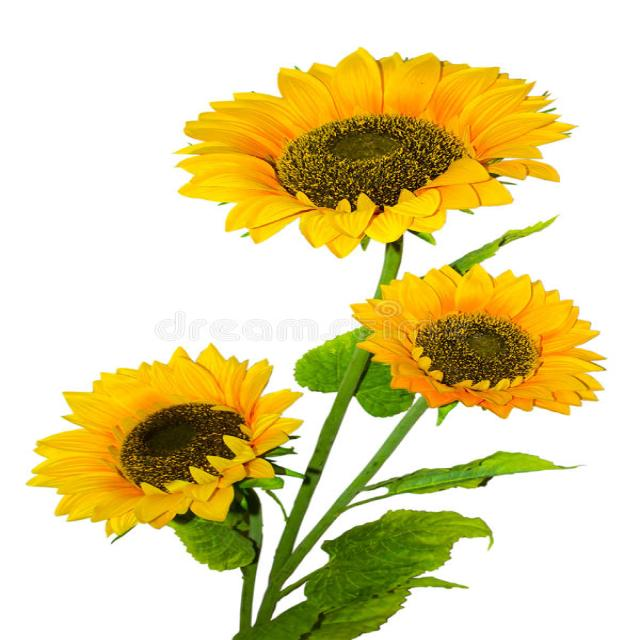sunflower: (149, 40, 586, 259), (13, 339, 322, 541), (343, 260, 622, 428)
